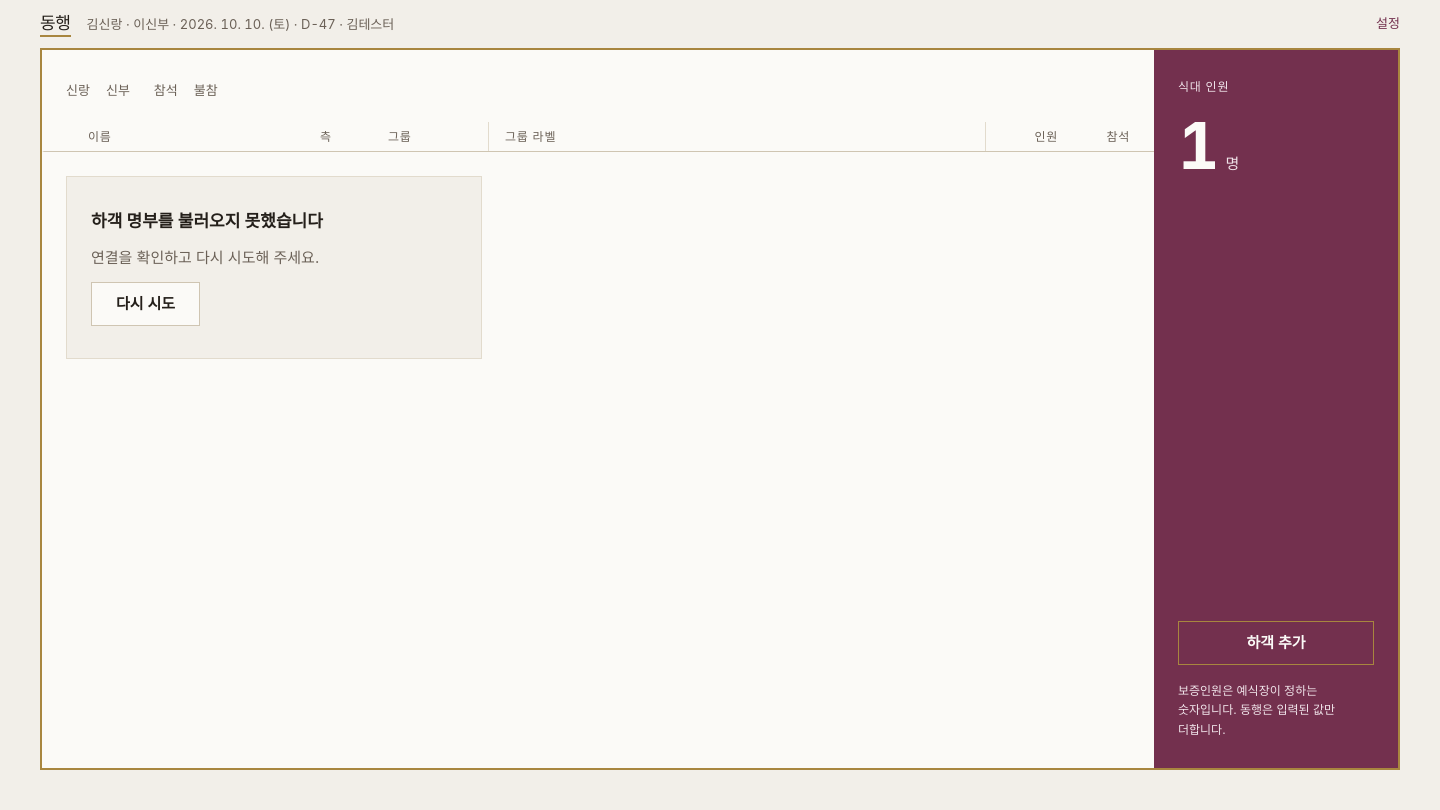
Test: offers the failure again rather than explaining it away
Check: the heading "하객 명부를 불러오지 못했습니다" is shown, box [91,209,323,234]
Click the button "다시 시도" at (146, 304), box [91,282,200,326]
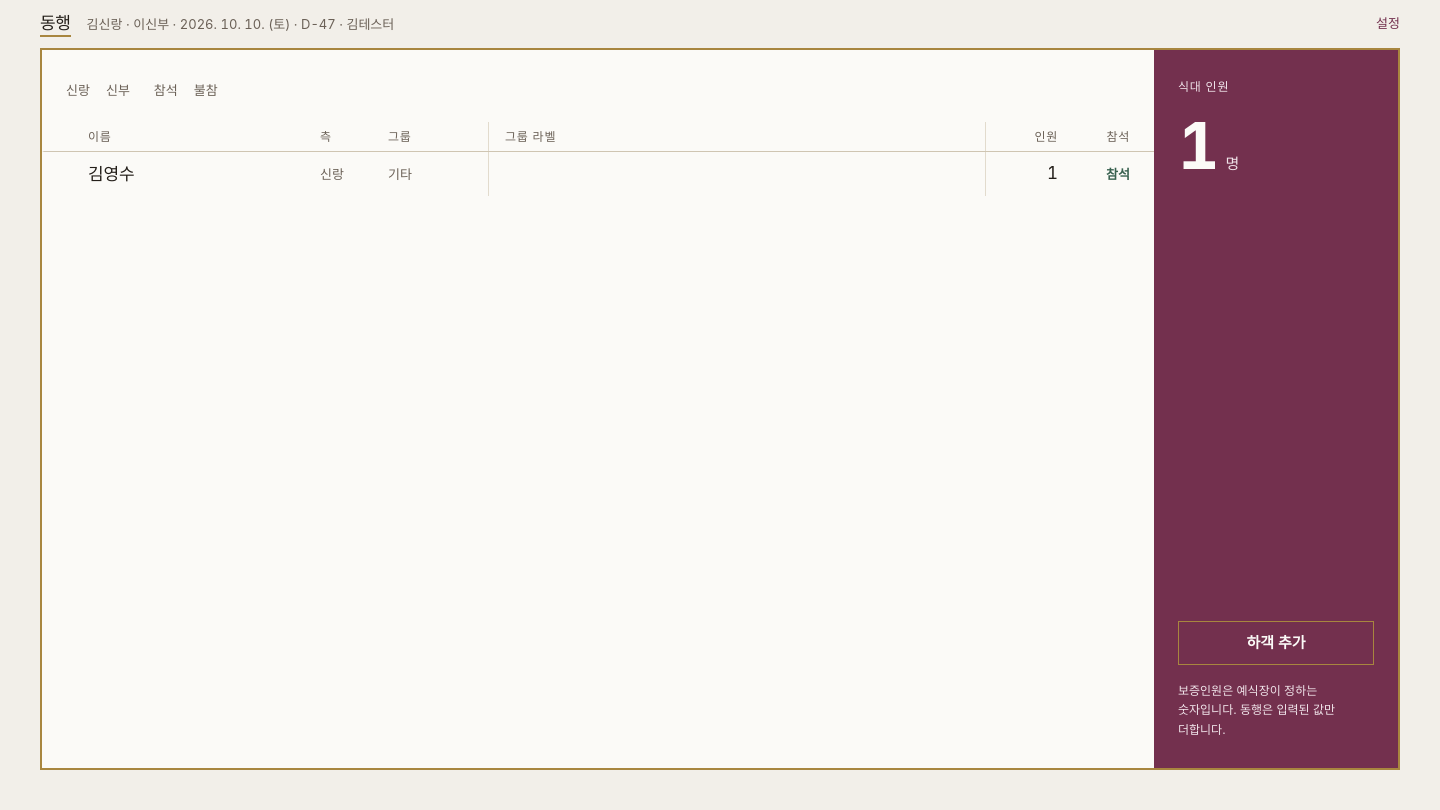
Check: the text with test id "guest-name" reads "김영수", box [88,164,134,184]
